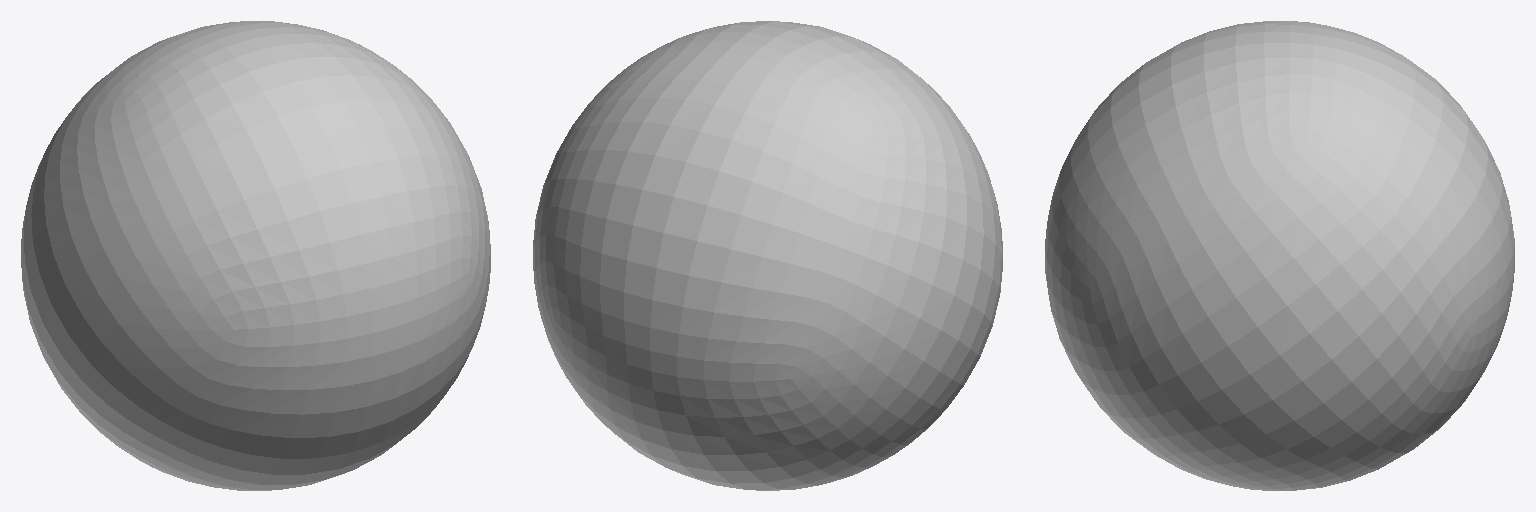
Rendered from volley.obj.
3 views of the same model, side by side, from view 1: azimuth 30°, elevation 25°; view 2: azimuth 150°, elevation 25°; view 3: azimuth 270°, elevation 25° (orthographic).
Parts seen in each view (by area): view 1: Sketchfab_Model; view 2: Sketchfab_Model; view 3: Sketchfab_Model.
Boxes of the visible parts, <box> form: Sketchfab_Model: <box>21,21,490,490</box>; Sketchfab_Model: <box>533,21,1002,490</box>; Sketchfab_Model: <box>1045,21,1514,490</box>.
Bounding box in the file's own units: 10.57 × 10.57 × 10.57.